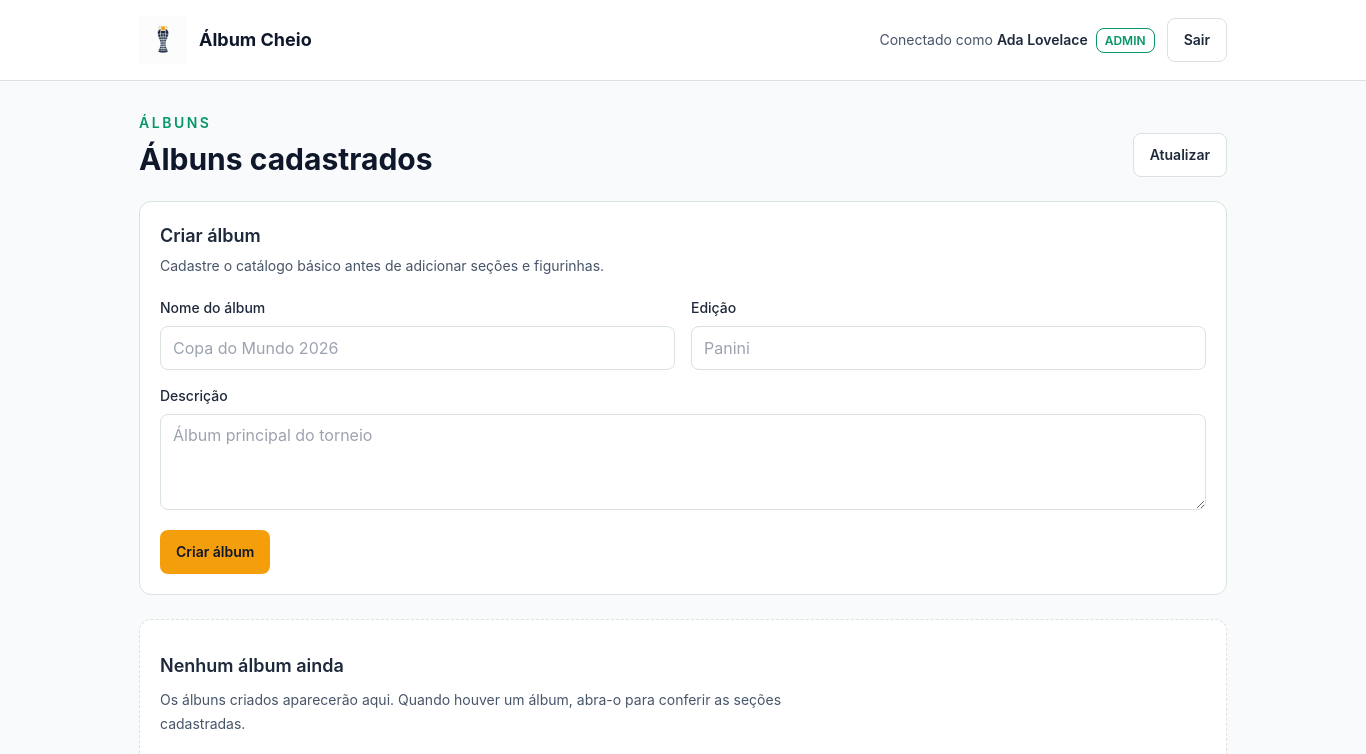
AlbumsPage › shows administrative controls and creates an album for admins
Check: the heading "Nenhum álbum ainda" is shown, box [160,655,344,676]
Check: the text "Os álbuns criados aparecerão aqui. Quando houver um álbum, abra-o para conferir as seções cadastradas." is shown, box [160,691,781,732]
Type "Copa America 2028" into the field labelled "Nome do álbum".
click(418, 348); type("Copa America 2028")  # box [160,326,675,370]
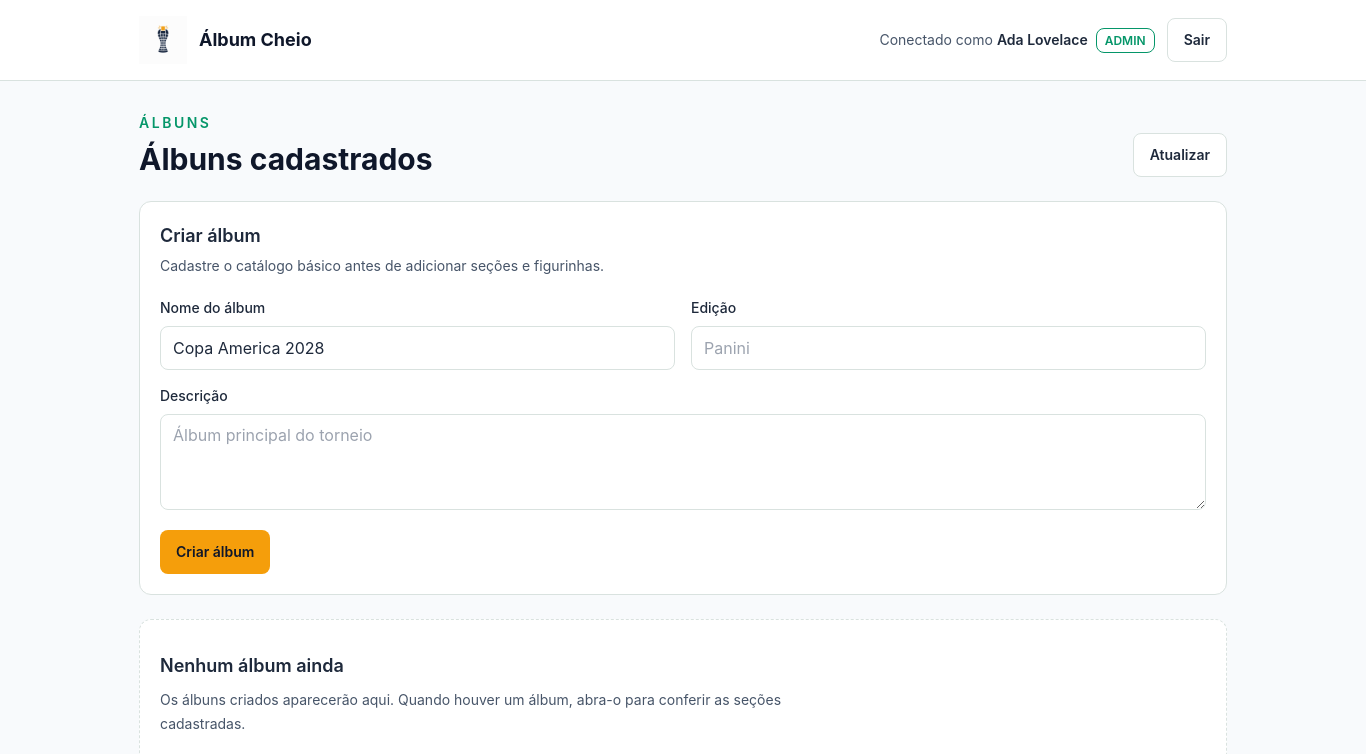
Type "Collectors" into the field labelled "Edição".
click(948, 348); type("Collectors")  # box [691,326,1206,370]
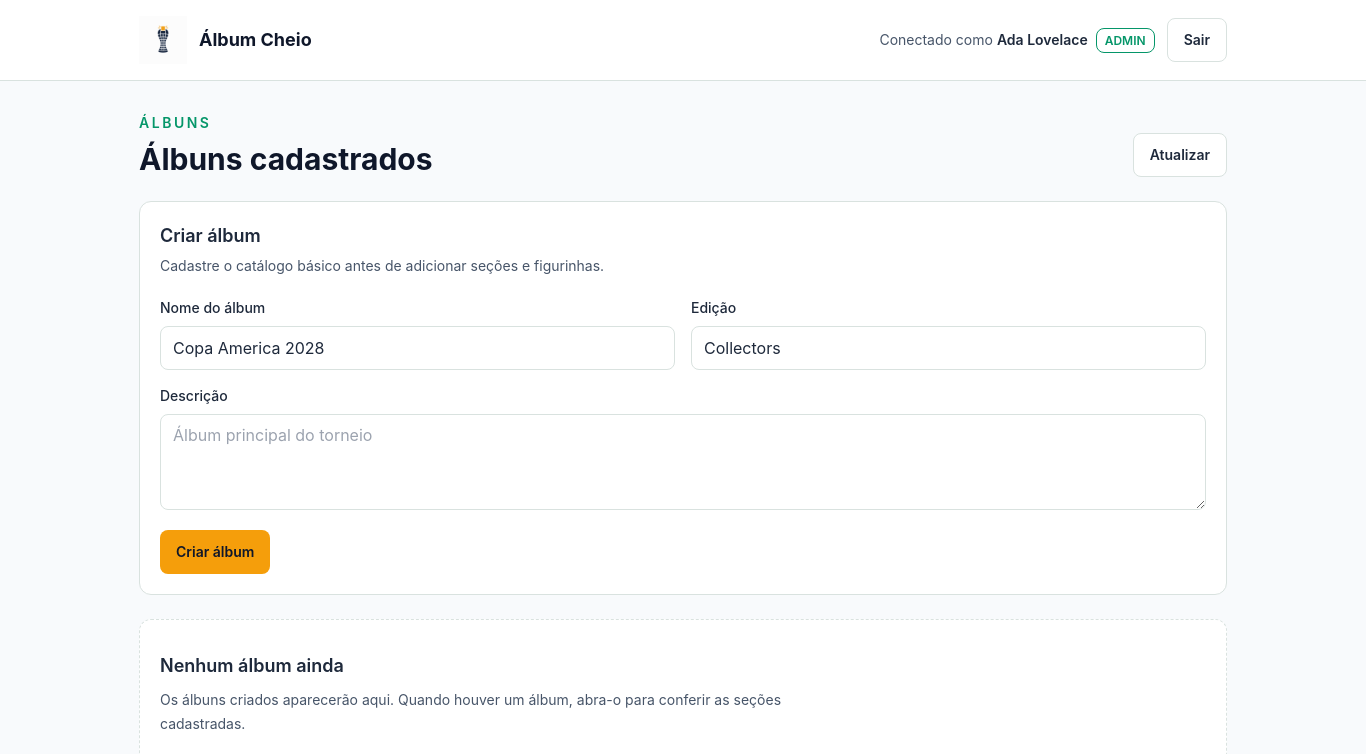
Type "Manual catalog" into the text box labelled "Descrição".
click(683, 462); type("Manual catalog")  # box [160,414,1206,510]
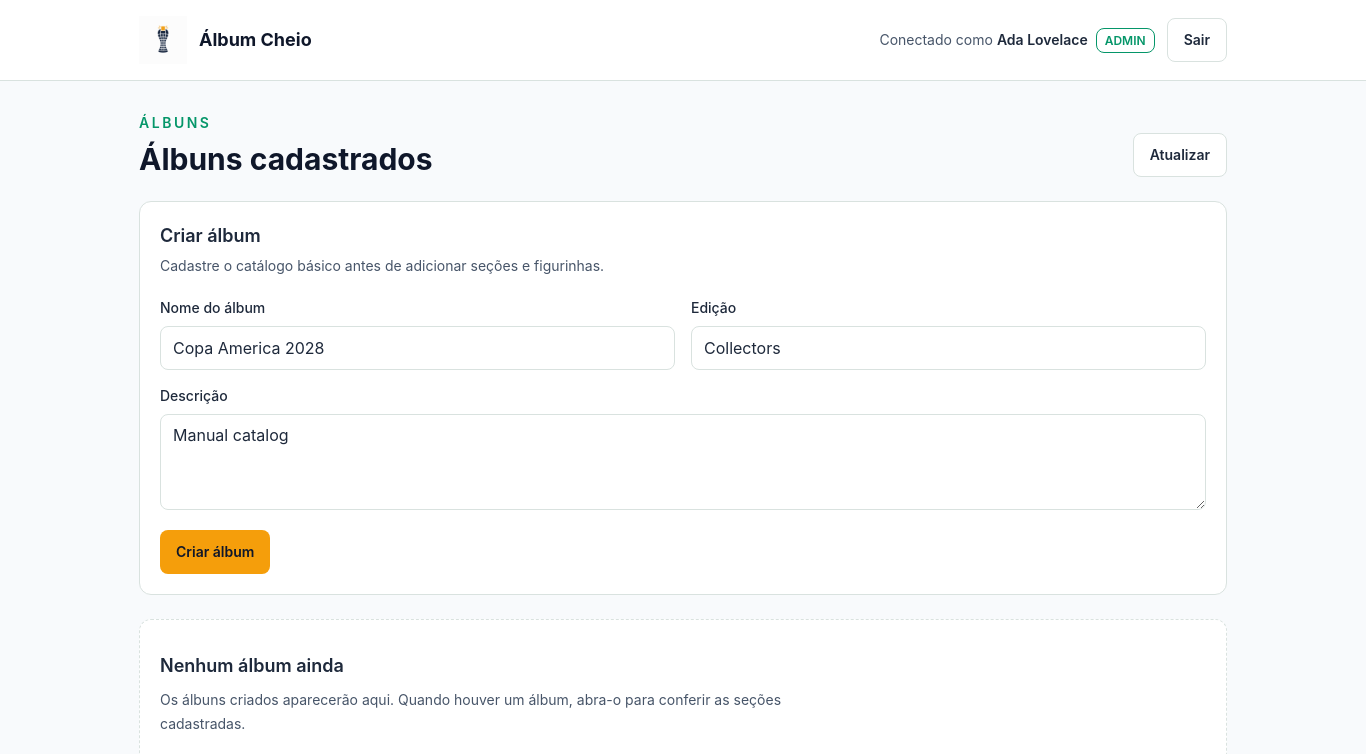
Click the button "Criar álbum".
click(215, 552)  # box [160,530,270,574]
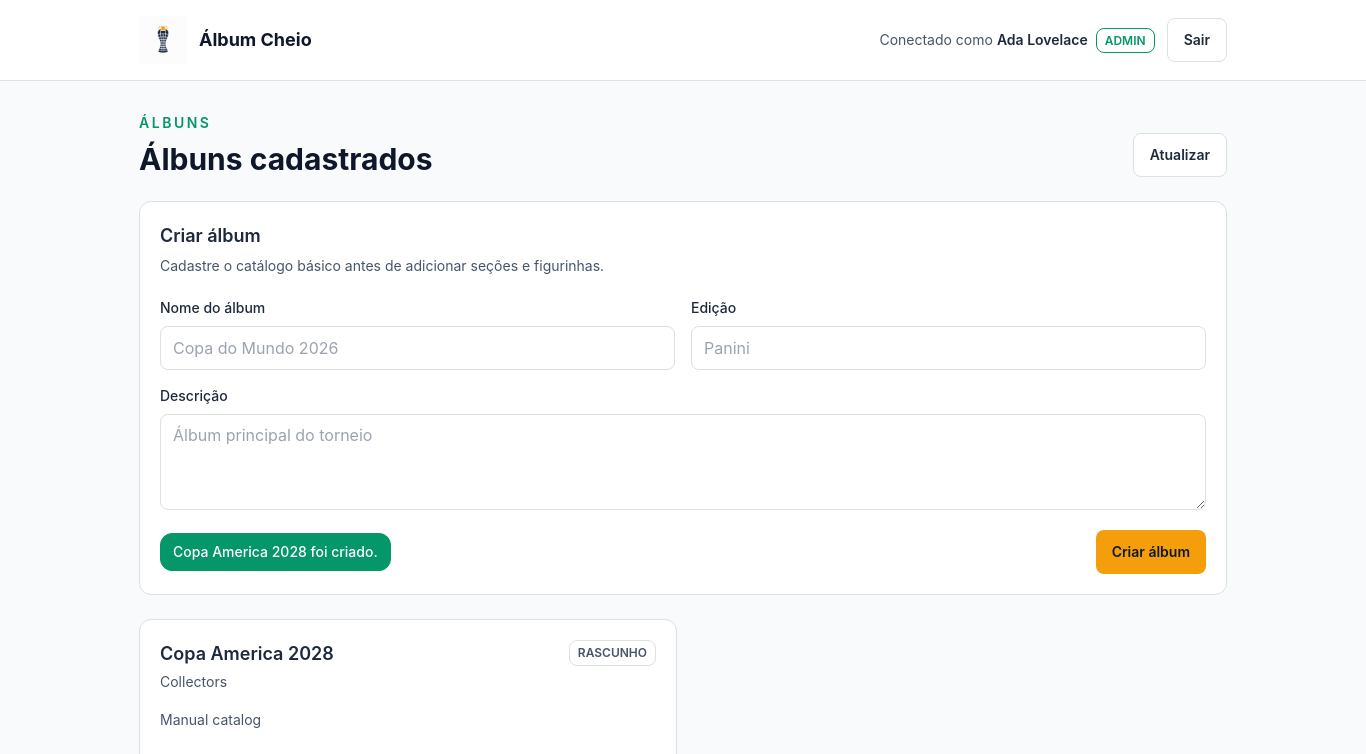
Check: the heading "Copa America 2028" is shown, box [160,640,334,668]
Check: the text "Rascunho" is shown, box [569,640,656,666]
